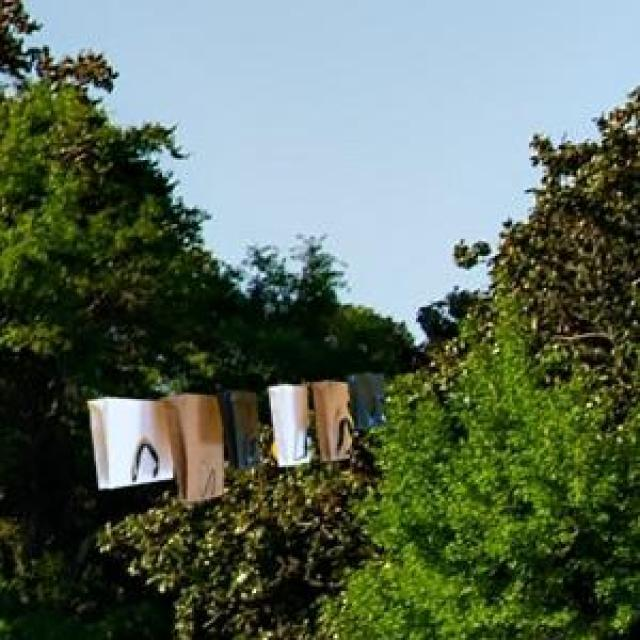paper: (84, 371, 381, 499)
